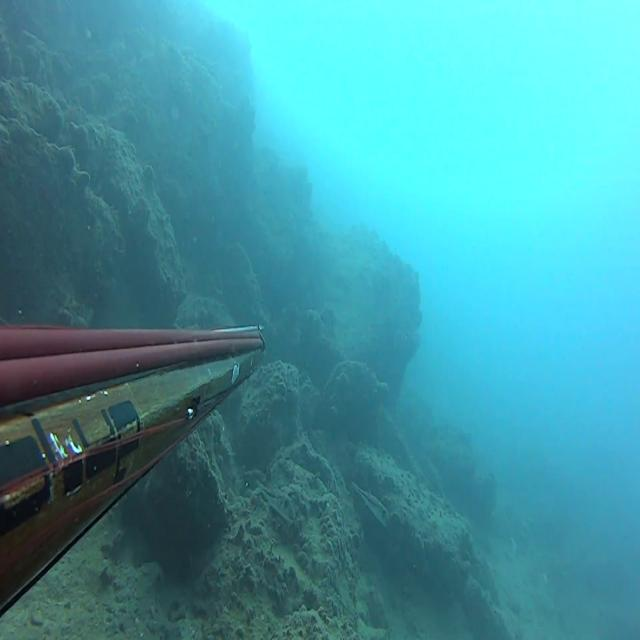Balon Baligi: (256, 478, 295, 523), (352, 481, 389, 528)
